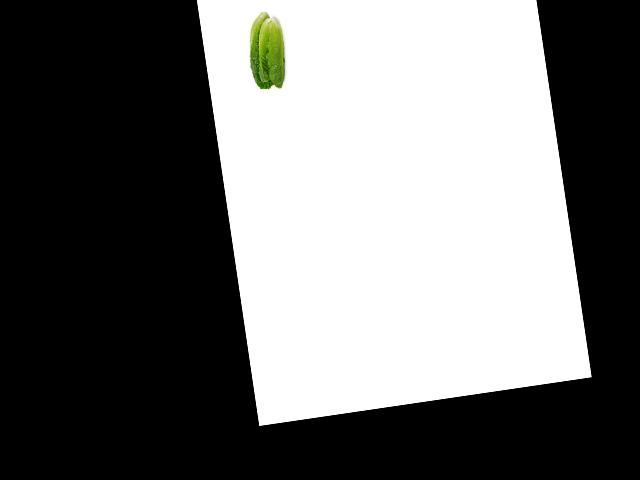lettuce: (243, 9, 295, 92)
